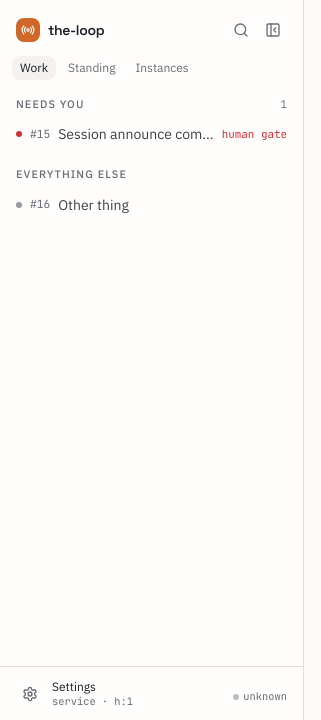
Test case: the sidebar de-cluttered (issue-511, Option C) › Scenario: an instance filter renders on a fleet and not on a worker
What coordinates should you click on to do the following:
click the button named "Search and filter"
I would click on:
 (241, 30)
Its box is 227,16 -> 255,44.
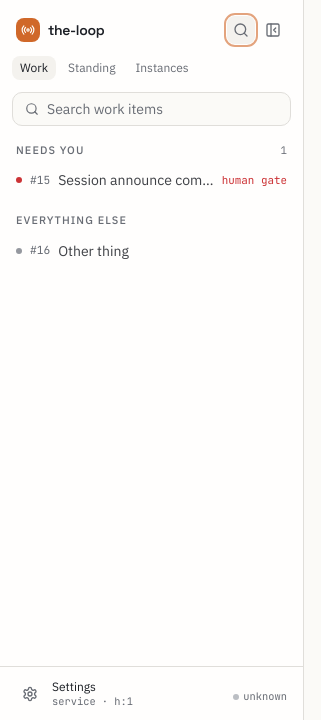
Now the search field labelled "Search work items" is shown, box 47,99 -> 278,119
